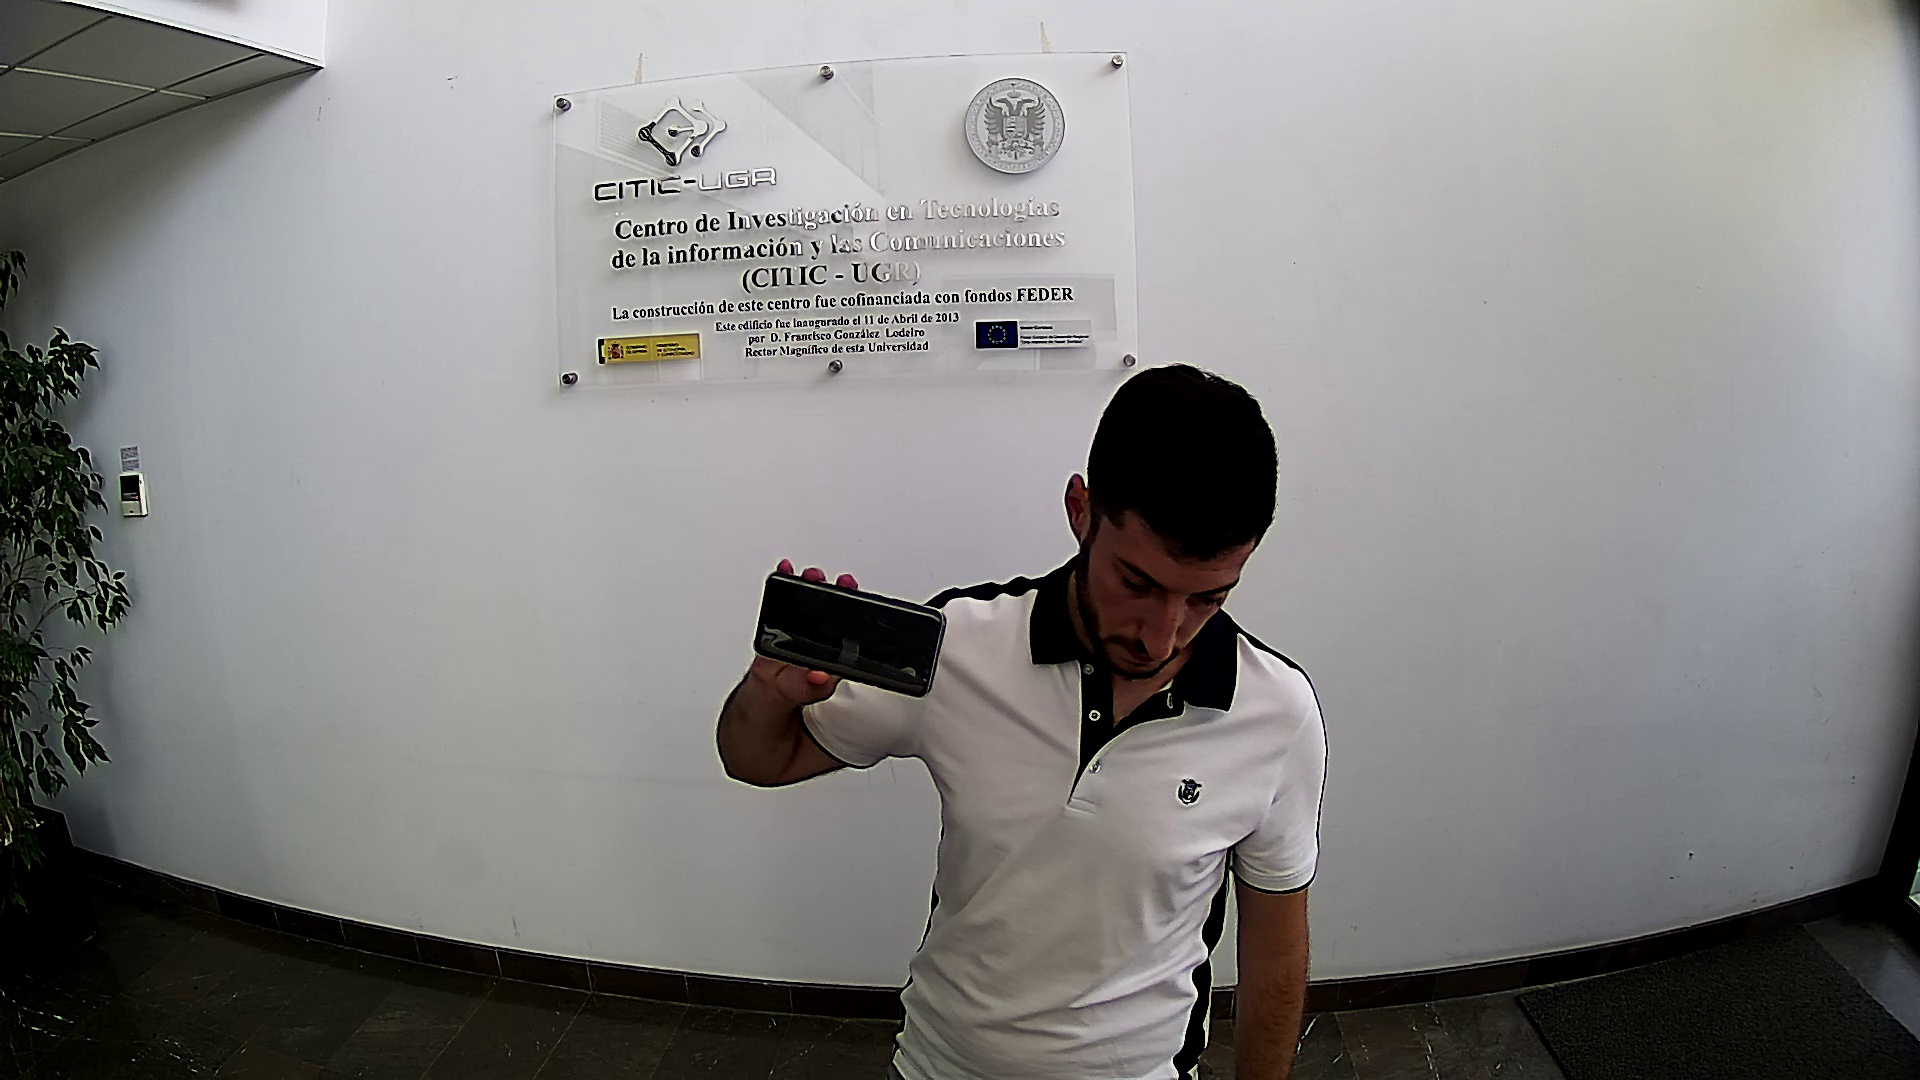smartphone: (752, 568, 948, 702)
